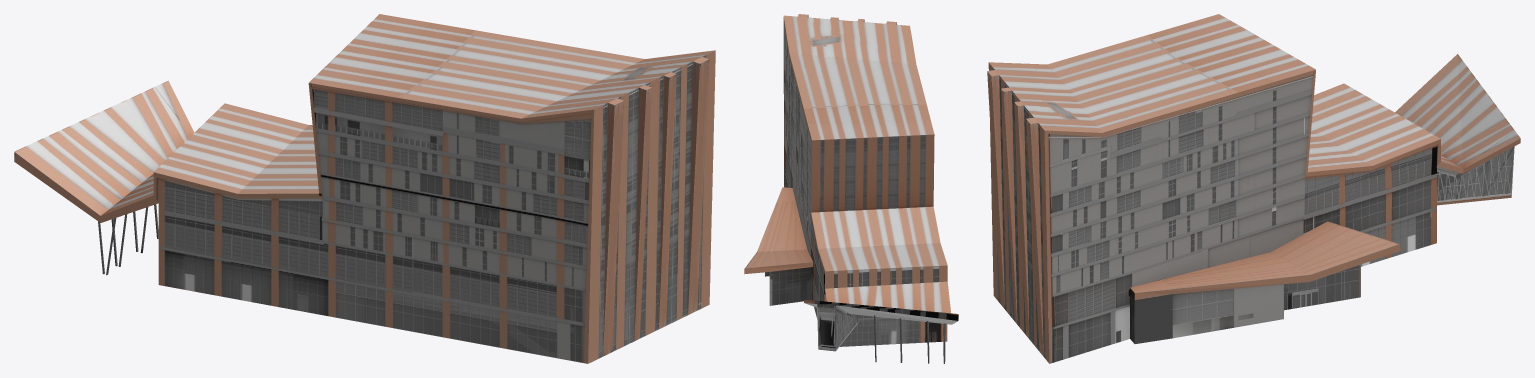
3 renders of one model, left to right at view 1: azimuth 30°, elevation 25°; view 2: azimuth 150°, elevation 25°; view 3: azimuth 270°, elevation 25°, orthographic. The views are drawn at different scales.
Visible parts, largest first — view 1: A.003; view 2: A.003; view 3: A.003.
Part boxes in pixels (x1,y1,x2,y2): A.003: (14, 14, 715, 363); A.003: (744, 14, 958, 363); A.003: (987, 14, 1520, 363).
Bounding box in the file's own units: 79.95 × 41.73 × 84.2.
Materials: 1 (1 with a texture image).
